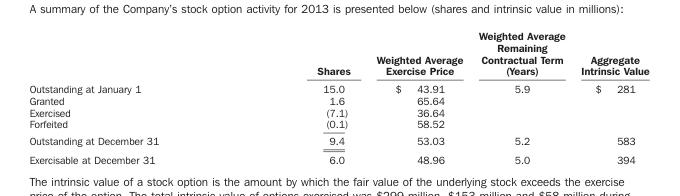table: (28, 29, 648, 165)
table column: (28, 29, 237, 165), (237, 29, 362, 165), (362, 29, 470, 165), (470, 29, 572, 165), (572, 29, 648, 165)
table column header: (28, 29, 648, 79)
table row: (28, 29, 648, 79), (28, 131, 648, 149), (28, 149, 648, 165), (28, 79, 648, 94), (28, 117, 648, 131), (28, 105, 648, 117), (28, 94, 648, 105)
